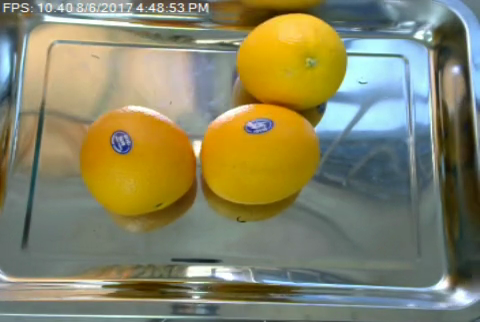Orange: (79, 105, 198, 218), (199, 103, 321, 205), (235, 13, 348, 110)
